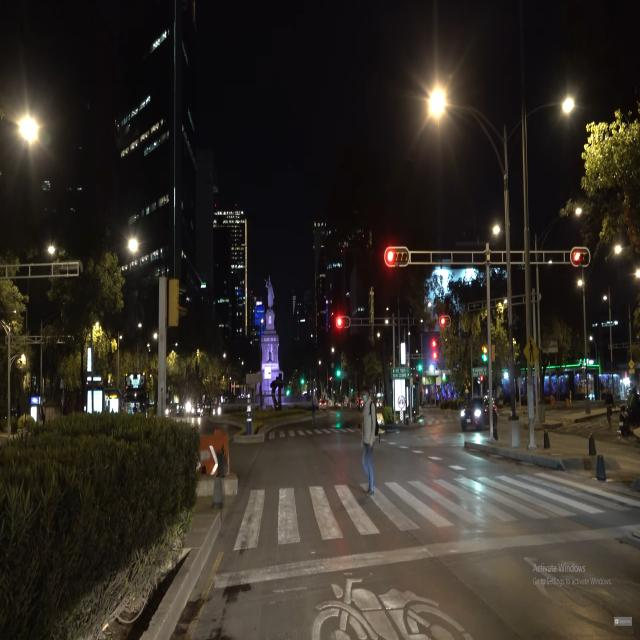headlights: (458, 401, 484, 428)
